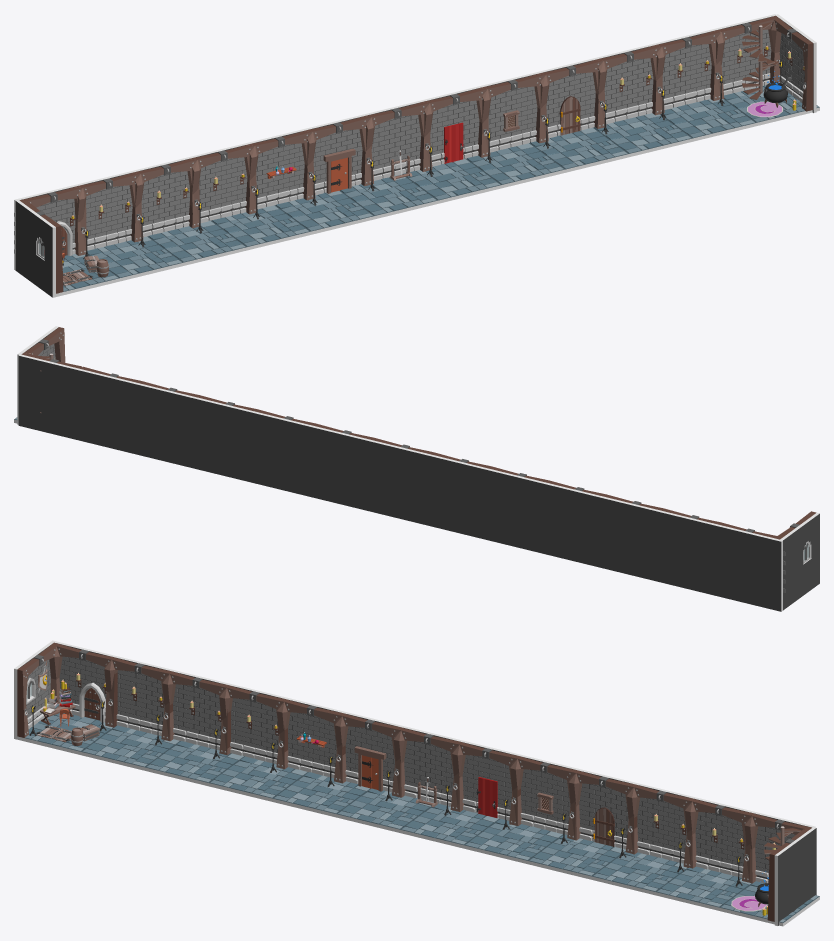
File: hallway.glb
3 views of the same model, one above another, from view 1: azimuth 30°, elevation 25°; view 2: azimuth 150°, elevation 25°; view 3: azimuth 330°, elevation 25° (orthographic).
Parts seen in each view (by area): view 1: floor_025.004, floor_025.003, floor_025.008, floor_025.009, floor_025.010, floor_025.005, floor_025.007, floor_025.011, floor_025.006, floor_025.002, wood_item_028.015, wood_item_028.003 (+44 smaller); view 2: wall_244.006, wall_244.029, wall_244.035, wall_244.037, wall_244.030, wall_244.031, wall_244.038, wall_244.039, wall_244.032, wall_244.033, wall_244.040, wall_244.034 (+4 smaller); view 3: wall_244.041, floor_025.003, floor_025.002, floor_025.008, floor_025.004, floor_025.007, floor_025.009, floor_025.011, floor_025.005, floor_025.010, floor_025.006, wood_item_028.001 (+41 smaller).
Boxes of the visible parts, box(x1,y1,x2,y2) form: floor_025.004: box(212, 205, 309, 246); floor_025.003: box(148, 220, 245, 261); floor_025.008: box(467, 143, 563, 184); floor_025.009: box(530, 128, 627, 168); floor_025.010: box(594, 113, 690, 153); floor_025.005: box(276, 191, 372, 230); floor_025.007: box(403, 158, 500, 199); floor_025.011: box(661, 99, 754, 137); floor_025.006: box(340, 174, 436, 215); floor_025.002: box(87, 236, 181, 277); wood_item_028.015: box(768, 16, 813, 111); wood_item_028.003: box(74, 171, 141, 255); wall_244.006: box(714, 524, 782, 611); wall_244.029: box(18, 354, 86, 441); wall_244.035: box(369, 440, 437, 527); wall_244.037: box(253, 413, 319, 499); wall_244.030: box(658, 510, 726, 598); wall_244.031: box(600, 496, 668, 583); wall_244.038: box(194, 397, 262, 484); wall_244.039: box(136, 383, 204, 470); wall_244.032: box(543, 482, 611, 569); wall_244.033: box(486, 468, 554, 553); wall_244.040: box(78, 369, 143, 454); wall_244.034: box(428, 455, 492, 539); wall_244.041: box(774, 827, 816, 925); floor_025.003: box(146, 741, 243, 782); floor_025.002: box(82, 725, 179, 766); floor_025.008: box(465, 819, 562, 860); floor_025.004: box(210, 756, 307, 797); floor_025.007: box(401, 803, 498, 844); floor_025.009: box(529, 834, 625, 875); floor_025.011: box(657, 866, 751, 906); floor_025.005: box(274, 772, 369, 813); floor_025.010: box(593, 852, 686, 891); floor_025.006: box(338, 788, 433, 829); wood_item_028.001: box(17, 643, 62, 737).
Size of the model in its own units: 48.32 by 4.22 by 4.31.
Materials: 4 (4 with a texture image).
